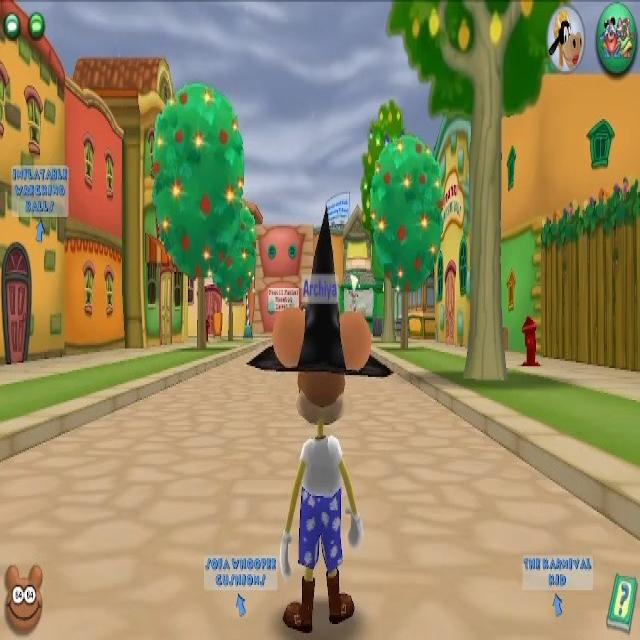pencilpusher: (267, 287, 298, 352)
